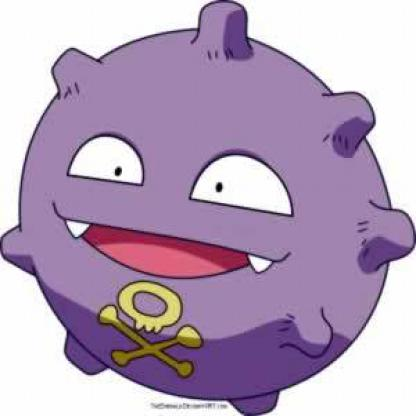Koffing: (1, 1, 414, 416)
